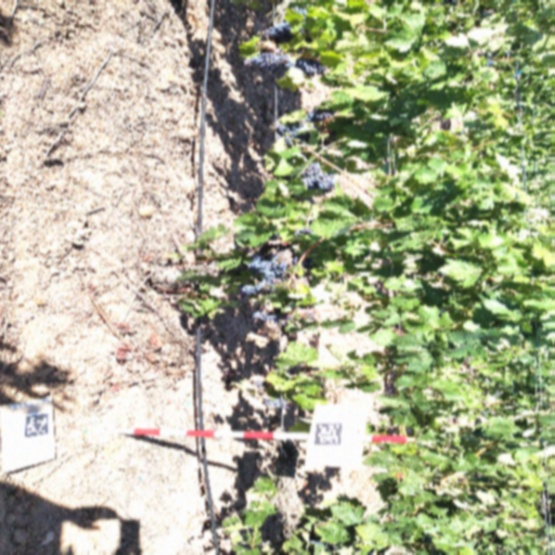QR: (25, 412, 51, 438), (317, 423, 341, 444)
